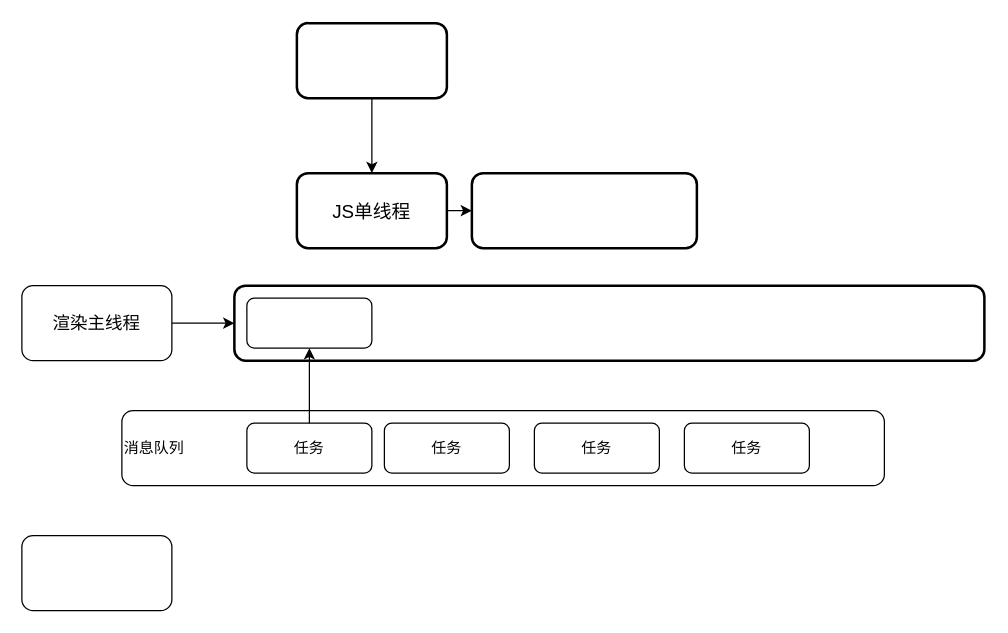
Some shapes in this 1008 by 633 pixel diagram are drawn without their labels. The shapes that lost their labels are listed below. From the top down, each one's centre as x and y in pixels, then its label:
At point 371,60: "浏览器进程".
At point 584,210: "运行在浏览器的渲染主线程中，而渲染主线程只有一个".
At point 309,322: "执行任务".
At point 96,572: "计时线程".
